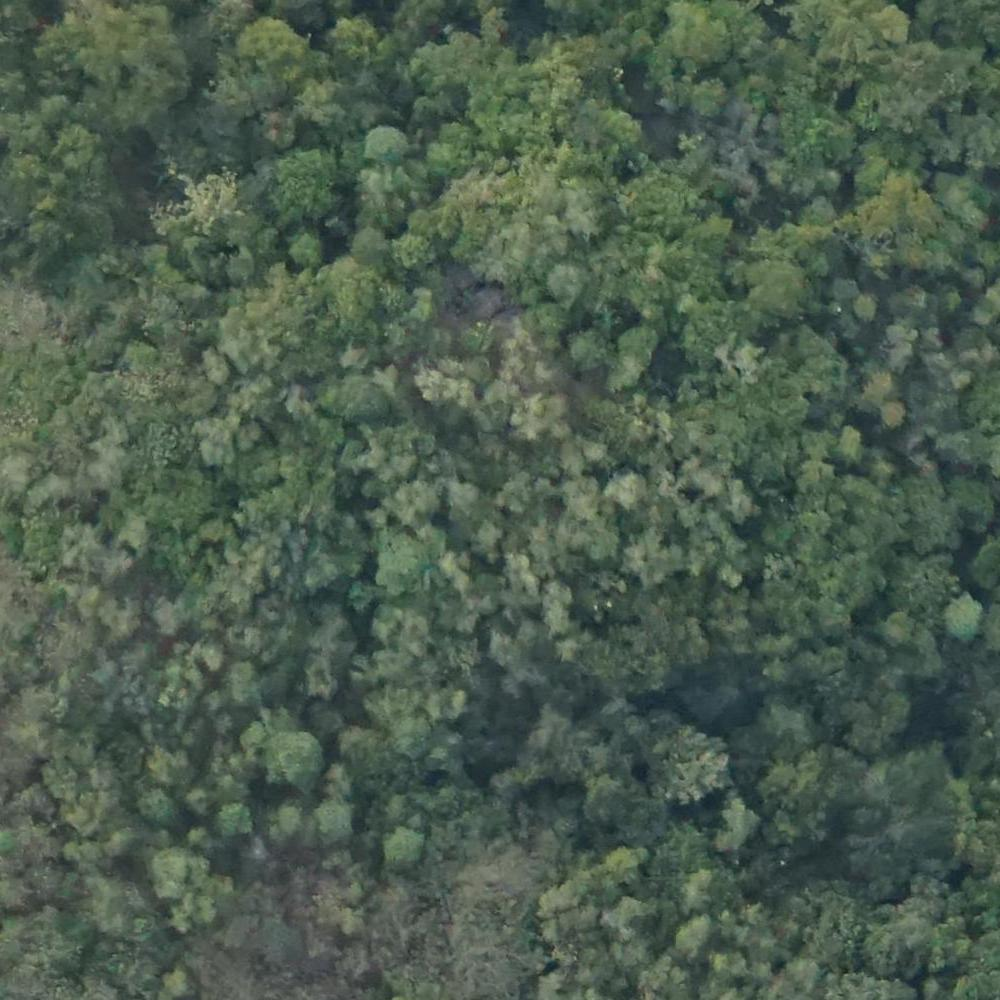tree: (656, 729, 731, 800), (744, 257, 815, 327), (239, 13, 307, 73), (323, 370, 388, 430), (669, 3, 719, 60), (271, 729, 322, 784), (943, 588, 992, 643), (515, 395, 566, 444), (715, 792, 762, 843), (376, 534, 422, 584), (147, 856, 195, 902), (122, 339, 170, 385), (345, 226, 393, 269), (196, 411, 238, 460), (615, 329, 662, 371), (224, 667, 271, 708), (377, 820, 427, 858), (366, 123, 411, 164), (390, 224, 429, 271), (196, 338, 237, 381), (153, 742, 192, 787), (391, 712, 431, 755), (674, 918, 713, 959), (283, 229, 325, 267), (533, 711, 573, 749), (609, 842, 646, 883), (612, 895, 649, 935), (547, 262, 582, 304), (849, 296, 888, 332), (263, 800, 304, 834), (391, 484, 428, 521), (694, 73, 729, 112), (314, 803, 349, 839), (138, 791, 174, 824), (155, 594, 188, 628), (876, 398, 911, 430), (835, 424, 863, 458), (568, 329, 598, 360)
